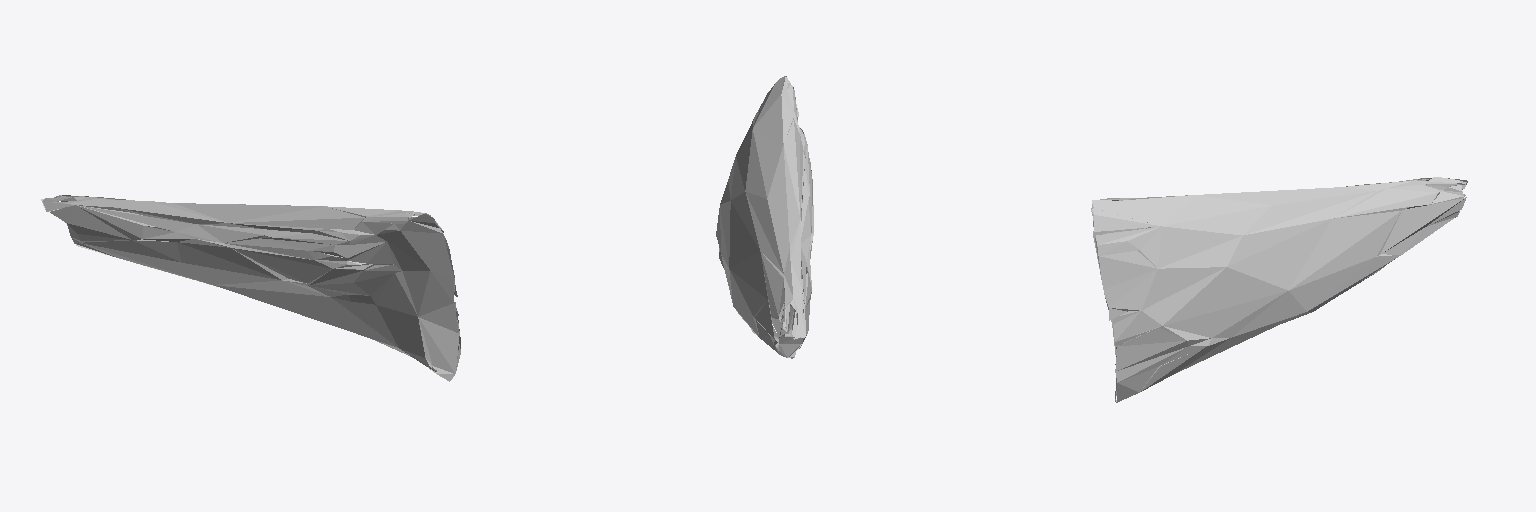
Rendered from FJ623_BP2330_FMA32531_Left_rectus_capitis_posterior_major.obj.
3 views of the same model, side by side, from view 1: azimuth 30°, elevation 25°; view 2: azimuth 150°, elevation 25°; view 3: azimuth 270°, elevation 25° (orthographic).
Visible parts, largest first — view 1: FJ623_BP2330_FMA32531_Left_rectus_capitis_posterior_major; view 2: FJ623_BP2330_FMA32531_Left_rectus_capitis_posterior_major; view 3: FJ623_BP2330_FMA32531_Left_rectus_capitis_posterior_major.
Part boxes in pixels (bbox=[...]): FJ623_BP2330_FMA32531_Left_rectus_capitis_posterior_major: bbox=[41, 195, 460, 381]; FJ623_BP2330_FMA32531_Left_rectus_capitis_posterior_major: bbox=[716, 76, 813, 358]; FJ623_BP2330_FMA32531_Left_rectus_capitis_posterior_major: bbox=[1091, 177, 1467, 402].
Bounding box in the file's own units: 34.15 × 24.48 × 45.1.